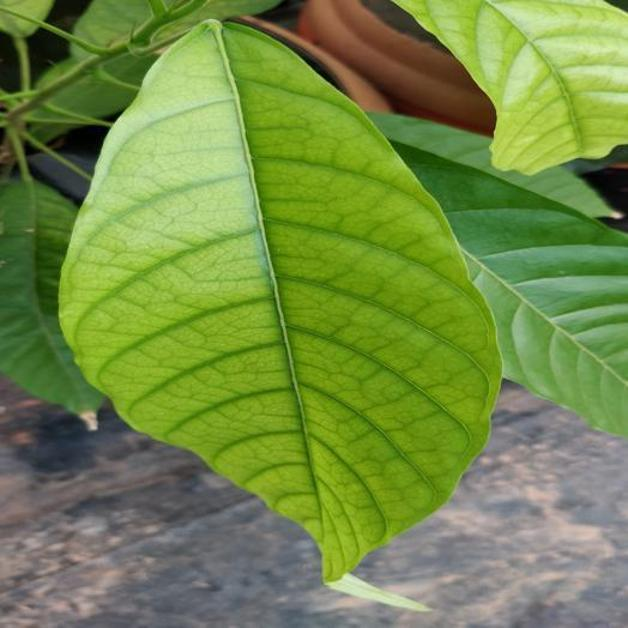Healthy Leaf: (372, 114, 627, 436), (0, 180, 101, 413)
Iron: (61, 20, 500, 592), (392, 0, 627, 174)
